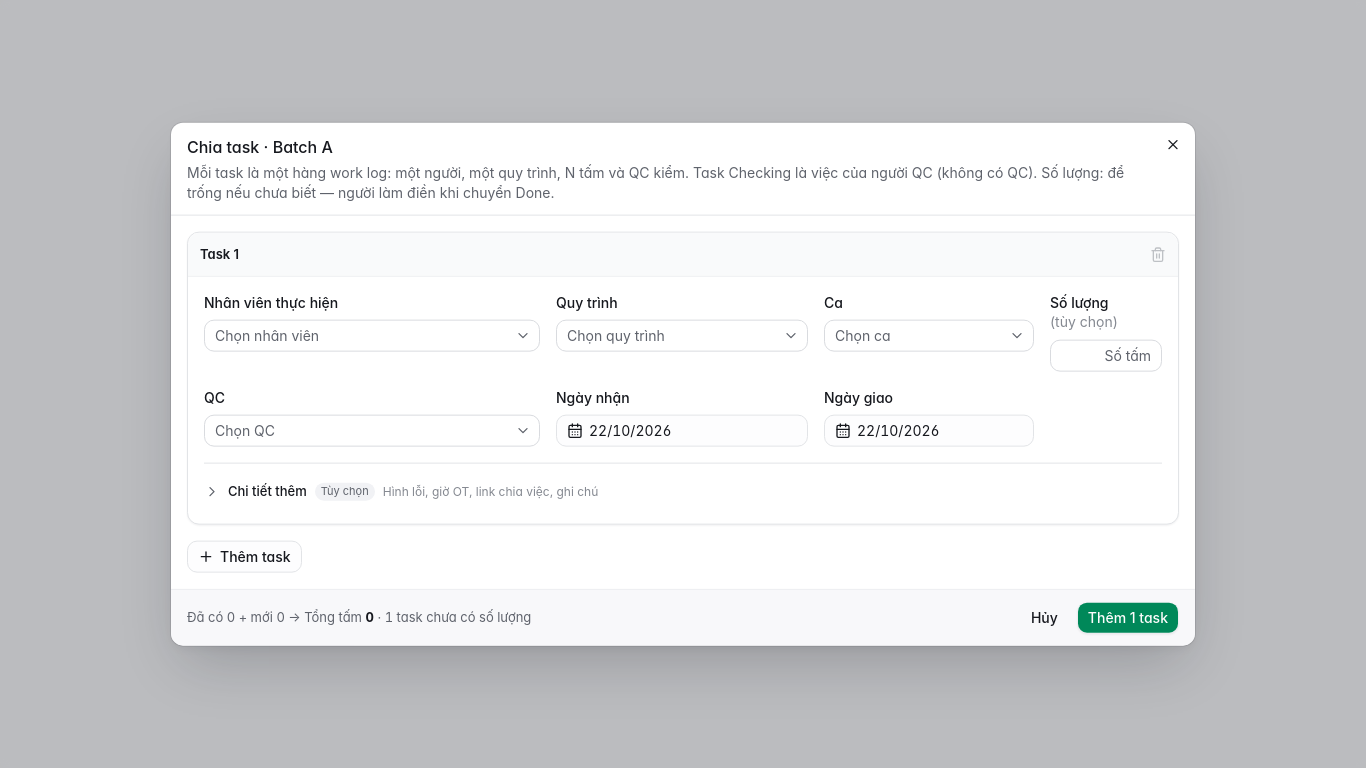
it: SplitTasksDialog — line cards › QC is required on a work task: no “Chưa gán QC” choice, picking one clears the error (PD-047)
The width and height of the screenshot is (1366, 768).
What coordinates should you click on to do the following:
click the button "Thêm 1 task"
I would click on:
 (1128, 617)
Its box is [1077, 601, 1179, 633].
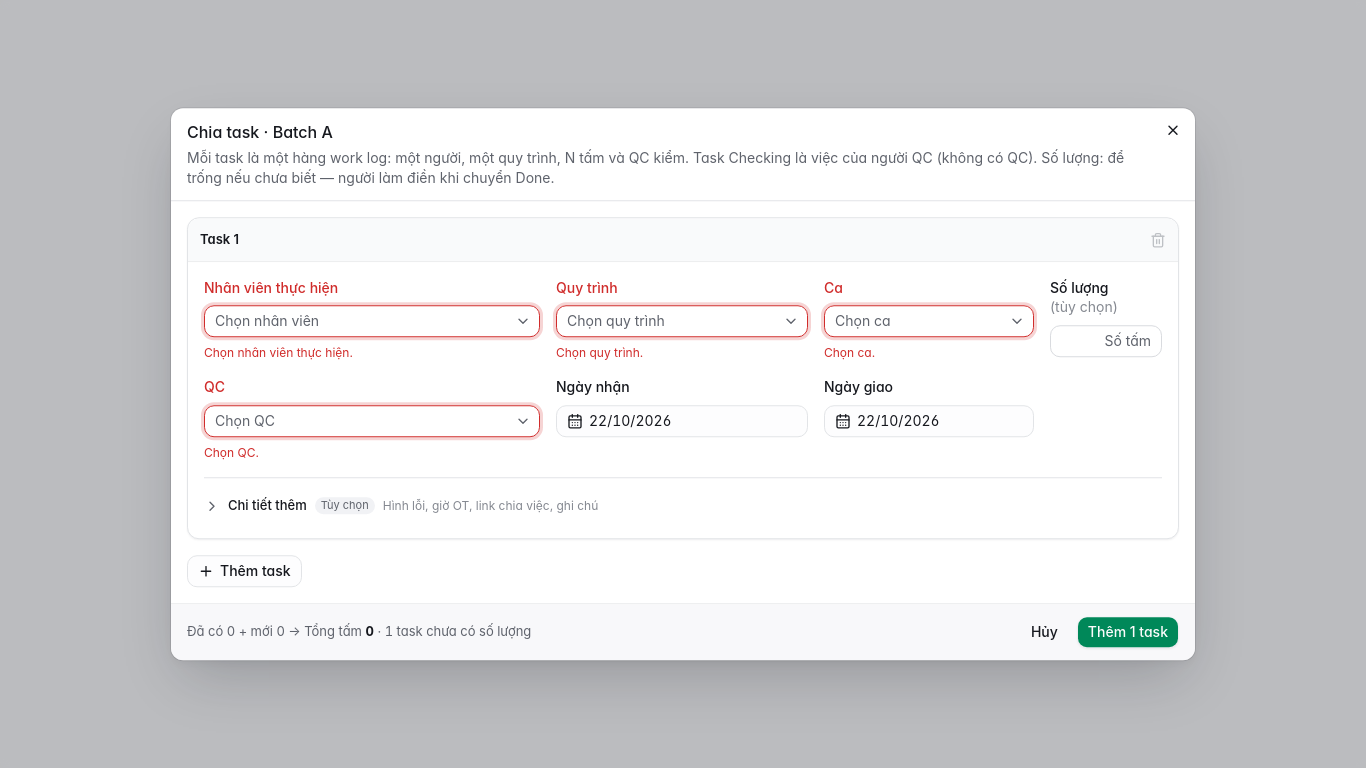
Check: the text "Chọn QC." is shown, box [204, 445, 259, 460]
What coordinates should you click on to do the following:
click the dropdown labelled "QC"
I would click on:
 (245, 420)
Its box is [204, 405, 540, 437].
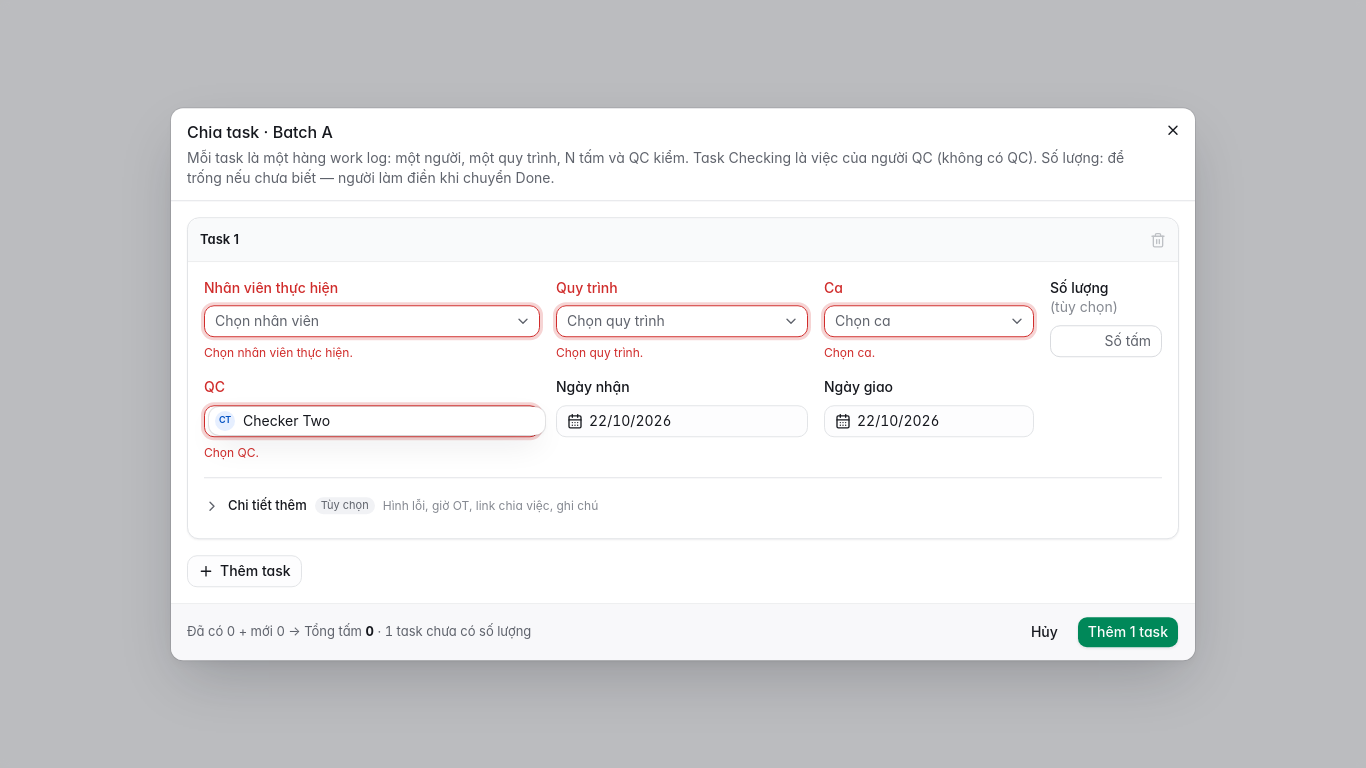
Check: the number of options is 1
Check: the option shows "Checker Two"
What coordinates should you click on to do the following:
click the option "CT Checker Two"
I would click on:
 (273, 421)
Its box is [215, 411, 330, 431].
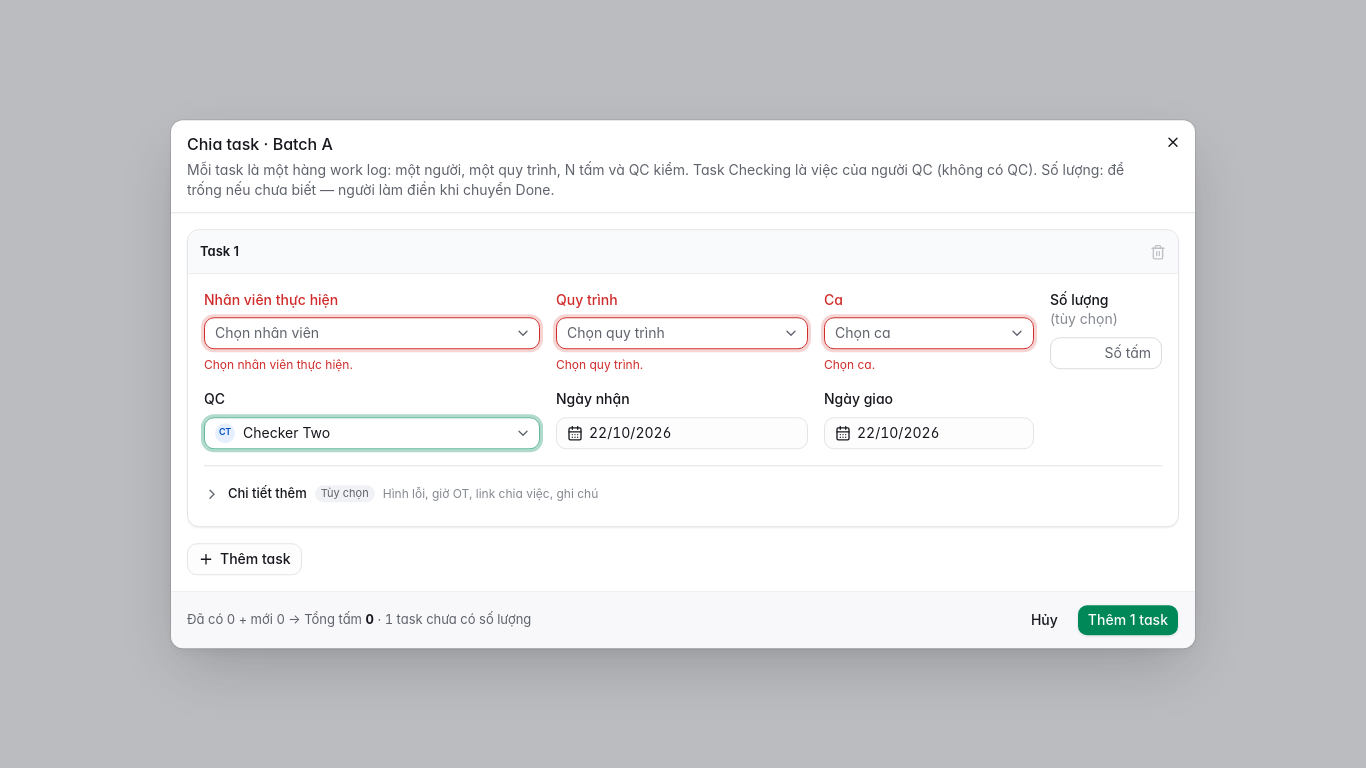
Check: the text "Chọn QC." is gone
